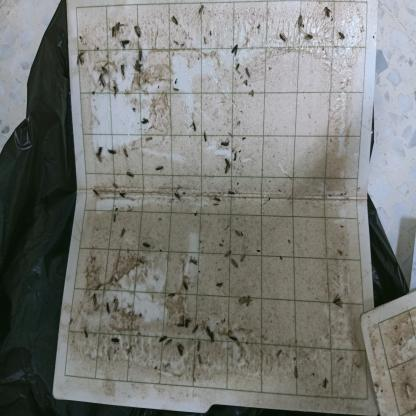prays_oleae: (109, 18, 121, 41), (331, 291, 343, 313), (177, 310, 185, 336), (132, 61, 142, 81), (229, 255, 240, 272), (188, 254, 199, 271), (75, 51, 88, 65), (176, 340, 186, 358), (227, 186, 238, 202), (168, 15, 182, 27), (125, 167, 136, 182), (97, 71, 106, 89), (278, 30, 288, 46), (172, 187, 182, 203), (140, 114, 151, 128), (234, 226, 242, 245), (322, 4, 332, 19), (108, 144, 117, 160), (295, 12, 304, 28), (112, 334, 121, 350), (195, 339, 203, 356), (112, 82, 121, 97), (181, 279, 190, 294), (119, 226, 128, 241), (137, 46, 144, 65), (91, 186, 102, 198), (133, 26, 144, 38), (240, 244, 246, 266), (95, 147, 105, 160), (243, 65, 253, 78), (158, 333, 168, 346), (291, 365, 300, 379), (119, 186, 126, 204), (154, 161, 165, 172), (190, 120, 198, 135), (336, 30, 346, 42), (304, 30, 314, 42), (109, 212, 119, 224), (118, 64, 127, 77), (92, 293, 99, 309), (142, 239, 152, 250), (220, 136, 229, 148), (164, 337, 173, 349), (215, 278, 223, 291), (120, 38, 130, 48), (192, 322, 199, 336), (122, 146, 130, 158), (232, 43, 240, 55), (209, 330, 217, 342), (224, 156, 232, 168), (223, 249, 233, 258), (185, 316, 191, 331), (104, 300, 112, 311), (197, 4, 205, 15), (213, 195, 220, 207), (222, 164, 229, 176), (203, 130, 208, 146), (199, 356, 203, 367), (207, 328, 211, 338)
